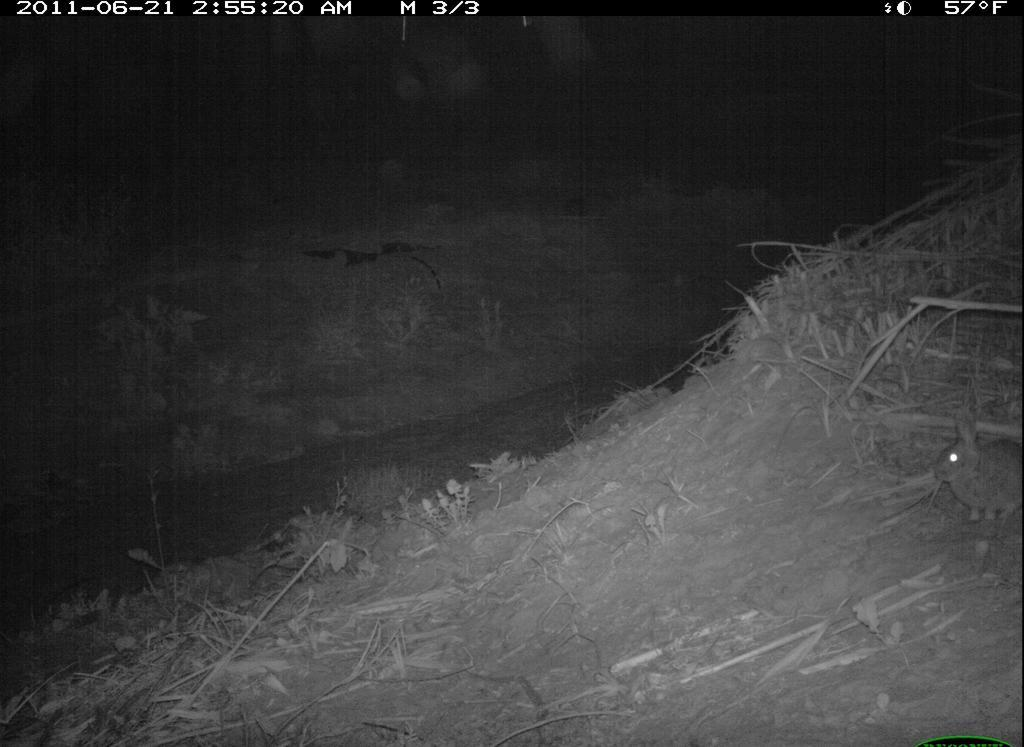rabbit: (926, 402, 1022, 528)
